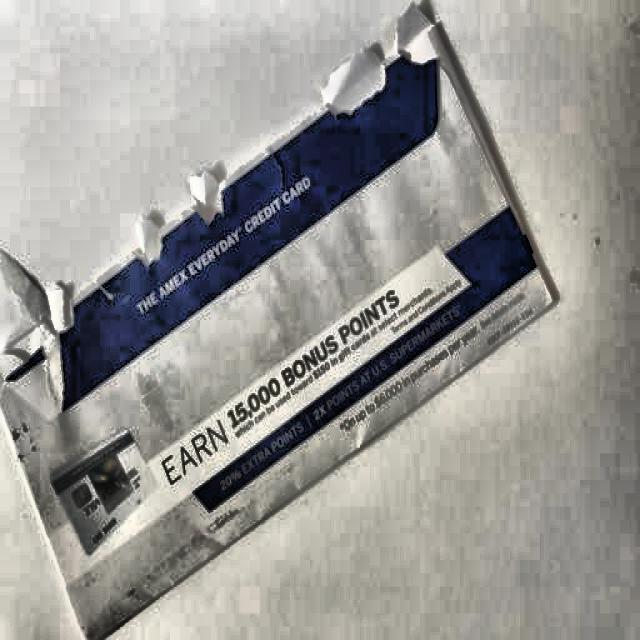paper: (13, 61, 513, 524)
